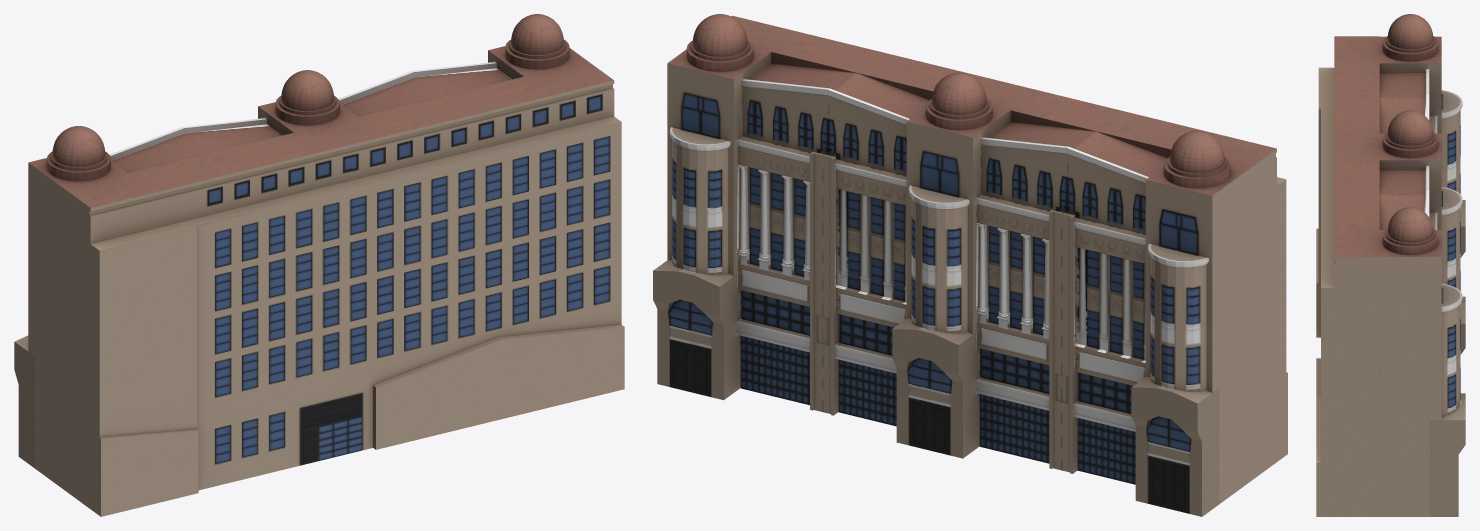
File: Hotel-Astoria_ha_h+ha_l.gltf
3 renders of one model, left to right at view 1: azimuth 30°, elevation 25°; view 2: azimuth 150°, elevation 25°; view 3: azimuth 270°, elevation 25°, orthographic. The views are drawn at different scales.
Visible parts, largest first — view 1: f128da79-c2fb-4e41-9164-8f03a8e241c7; view 2: f128da79-c2fb-4e41-9164-8f03a8e241c7; view 3: f128da79-c2fb-4e41-9164-8f03a8e241c7.
Part boxes in pixels (box(x1,y1,x2,y2)): f128da79-c2fb-4e41-9164-8f03a8e241c7: box(14, 14, 624, 516); f128da79-c2fb-4e41-9164-8f03a8e241c7: box(653, 14, 1287, 516); f128da79-c2fb-4e41-9164-8f03a8e241c7: box(1316, 14, 1465, 516).
Bounding box in the file's own units: 33.07 × 20.59 × 9.47.
1 material, 1 textured.
